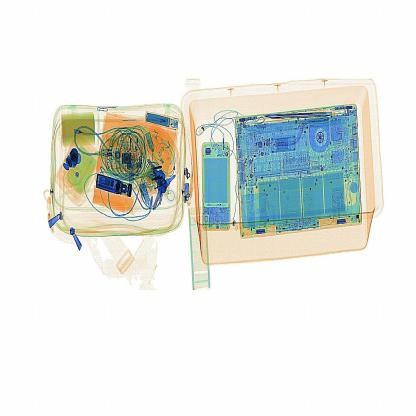wrench: (256, 104, 335, 130)
